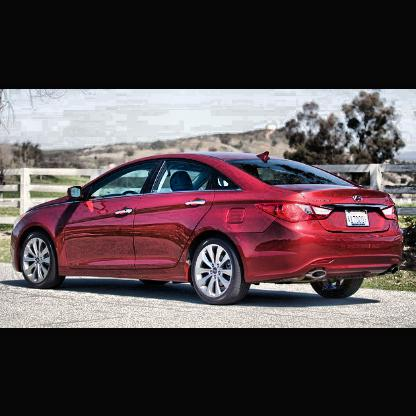Hyundai Elantra Sedan 2007: (9, 152, 405, 303)
